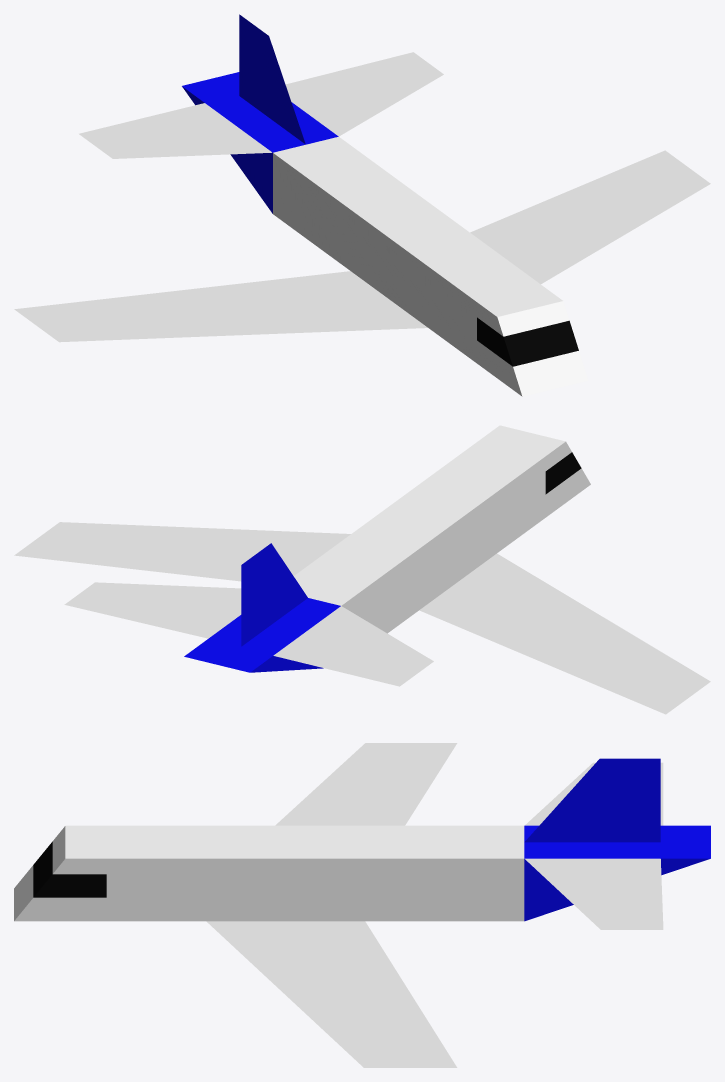
The picture shows the model from 3 angles, top to bottom: view 1: azimuth 30°, elevation 25°; view 2: azimuth 150°, elevation 25°; view 3: azimuth 270°, elevation 25°; orthographic projection. The views are drawn at different scales.
Parts seen in each view (by area): view 1: ID29, ID47, ID55, ID61, ID67, ID35, ID41, ID21, ID73, ID13; view 2: ID29, ID47, ID55, ID61, ID67, ID35, ID41, ID21; view 3: ID29, ID55, ID47, ID41, ID61, ID35, ID21, ID67, ID73.
Boxes of the visible parts, bbox=[...] form: ID29: bbox=[273, 136, 562, 396]; ID47: bbox=[14, 271, 427, 342]; ID55: bbox=[470, 150, 710, 284]; ID61: bbox=[285, 52, 443, 136]; ID67: bbox=[79, 103, 271, 158]; ID35: bbox=[182, 72, 338, 213]; ID41: bbox=[239, 14, 305, 144]; ID21: bbox=[477, 317, 578, 366]; ID73: bbox=[513, 351, 588, 396]; ID13: bbox=[497, 301, 569, 336]; ID29: bbox=[293, 425, 590, 633]; ID47: bbox=[419, 553, 710, 714]; ID55: bbox=[14, 522, 350, 581]; ID61: bbox=[64, 582, 241, 638]; ID67: bbox=[273, 606, 433, 686]; ID35: bbox=[184, 598, 340, 672]; ID41: bbox=[241, 543, 307, 646]; ID21: bbox=[545, 452, 581, 494]; ID29: bbox=[14, 825, 524, 921]; ID55: bbox=[206, 921, 457, 1067]; ID47: bbox=[275, 743, 457, 825]; ID41: bbox=[524, 758, 660, 842]; ID61: bbox=[525, 858, 663, 929]; ID35: bbox=[524, 825, 710, 921]; ID21: bbox=[33, 841, 106, 897]; ID67: bbox=[525, 762, 663, 825]; ID73: bbox=[14, 865, 33, 920].
Size of the model in its own units: 14.77 by 3.1 by 13.39.
